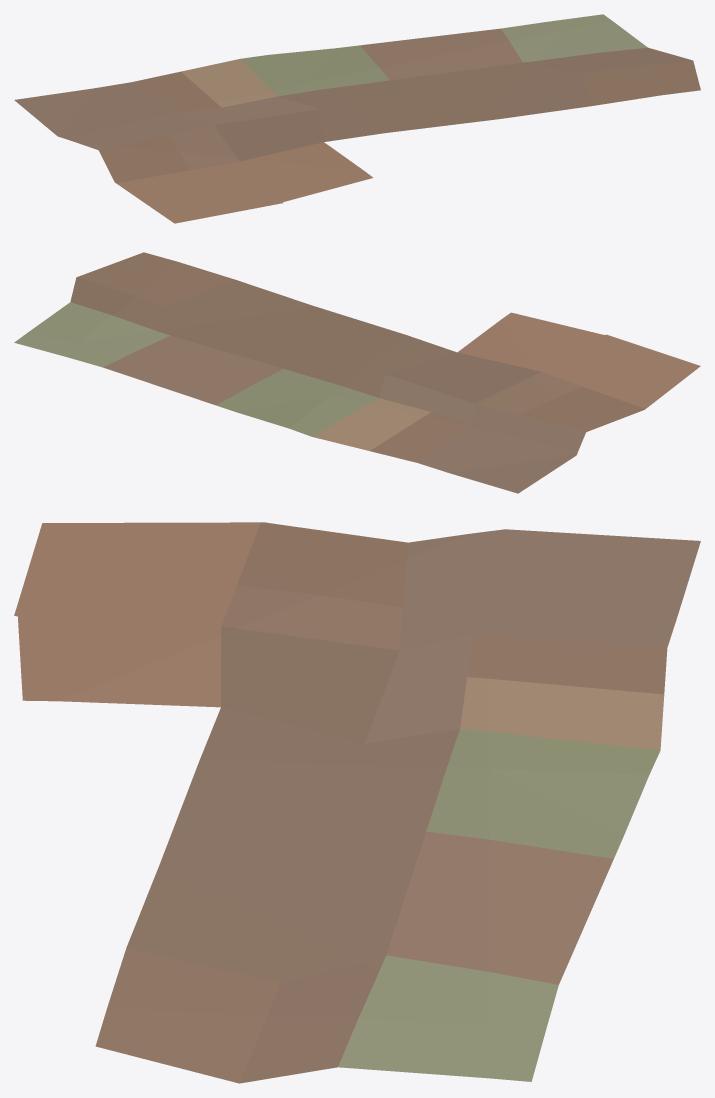
File: farm_26_40_soil.glb
3 renders of one model, top to bottom at view 1: azimuth 30°, elevation 25°; view 2: azimuth 150°, elevation 25°; view 3: azimuth 270°, elevation 25°, orthographic. The views are drawn at different scales.
Parts seen in each view (by area): view 1: geometry_0; view 2: geometry_0; view 3: geometry_0.
Boxes of the visible parts, bbox=[...] form: geometry_0: bbox=[14, 14, 700, 223]; geometry_0: bbox=[14, 252, 700, 493]; geometry_0: bbox=[14, 522, 700, 1083].
Bounding box in the file's own units: 182 × 6.55 × 98.33.
